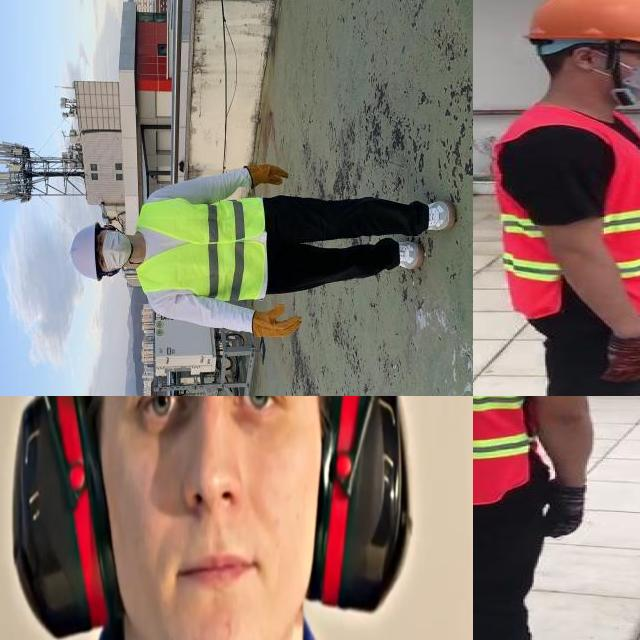Ear-protection: (8, 396, 410, 640)
boots: (393, 239, 426, 268), (425, 203, 455, 229)
face_mask: (606, 43, 640, 104)
hand_glove: (541, 482, 589, 539), (599, 334, 640, 385)
head_helmet: (521, 0, 640, 51), (67, 218, 106, 290)
person: (43, 159, 473, 360), (473, 0, 640, 396), (473, 396, 618, 640)
vest: (492, 106, 640, 318), (133, 194, 273, 301)
